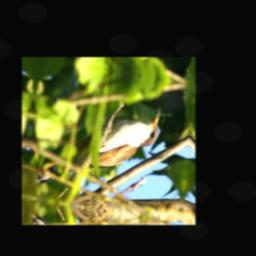Cuckoo: (32, 87, 163, 207)
